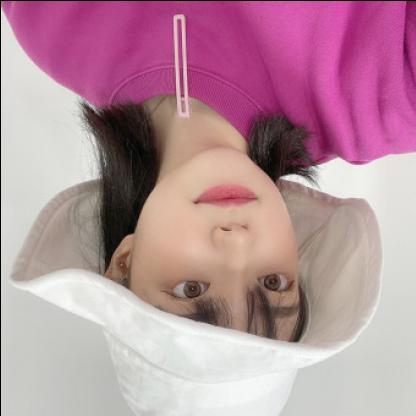hat: (3, 169, 386, 416)
